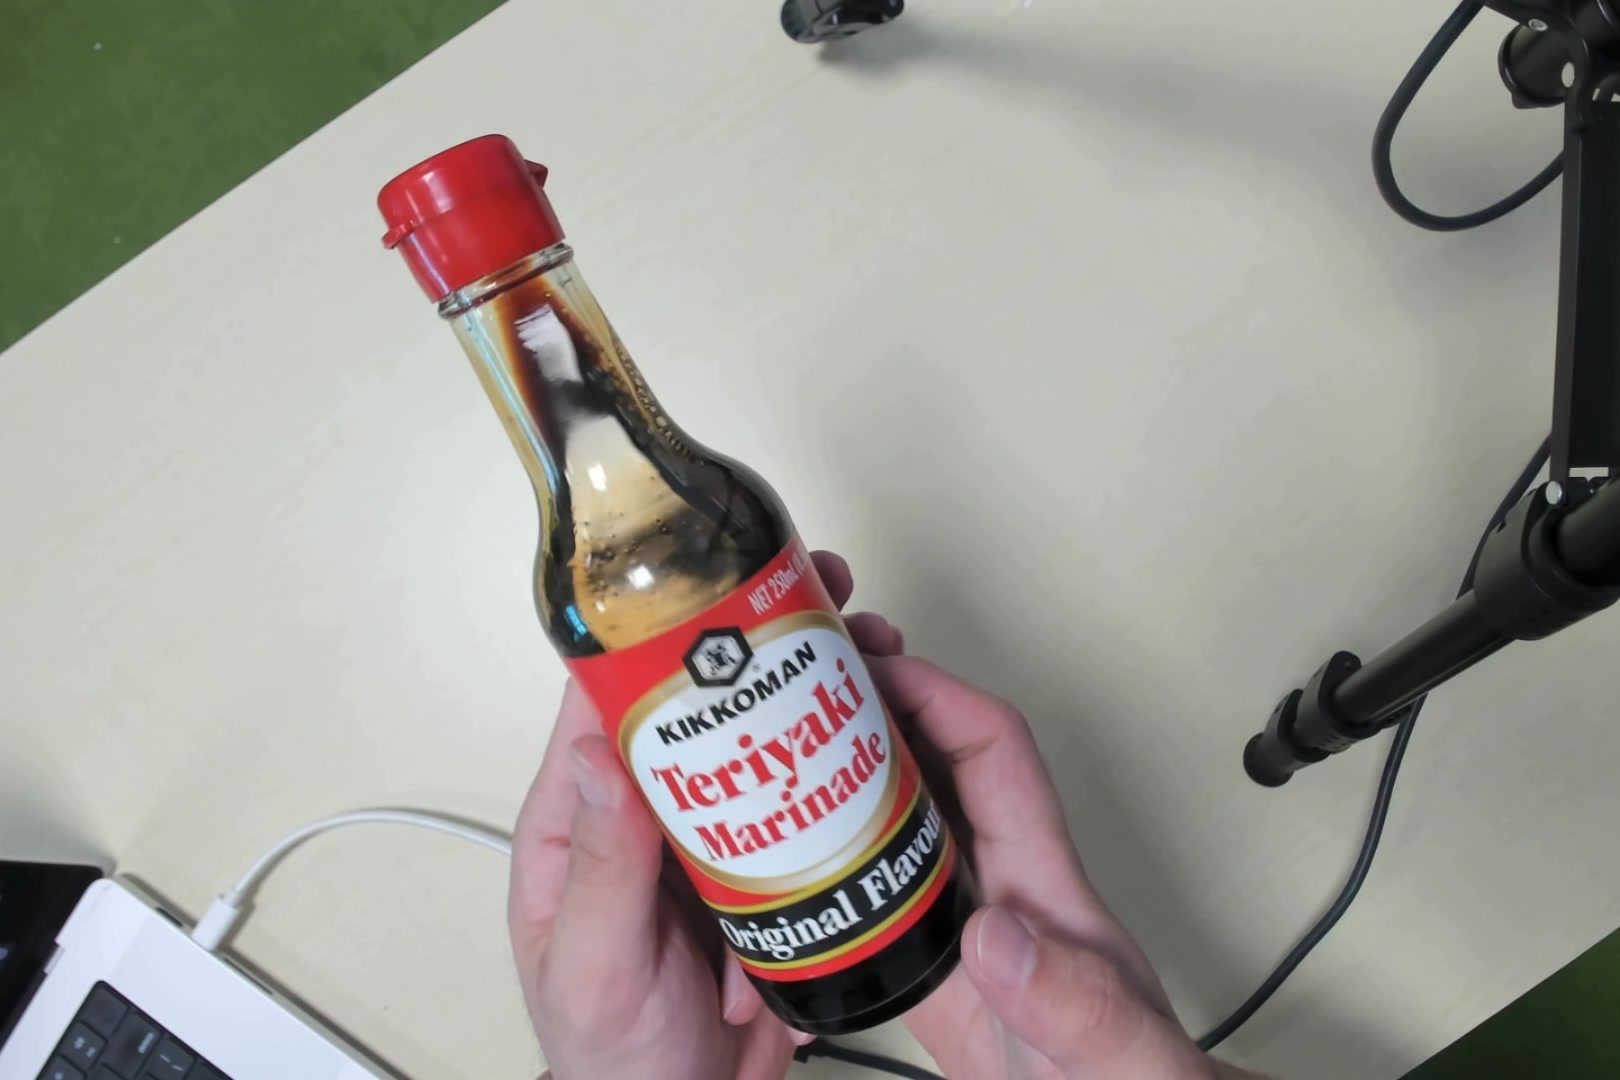OtherSauceDressingSoupbasePaste_200-299g_NonHalal_NonHealthy: (392, 153, 952, 1008)
